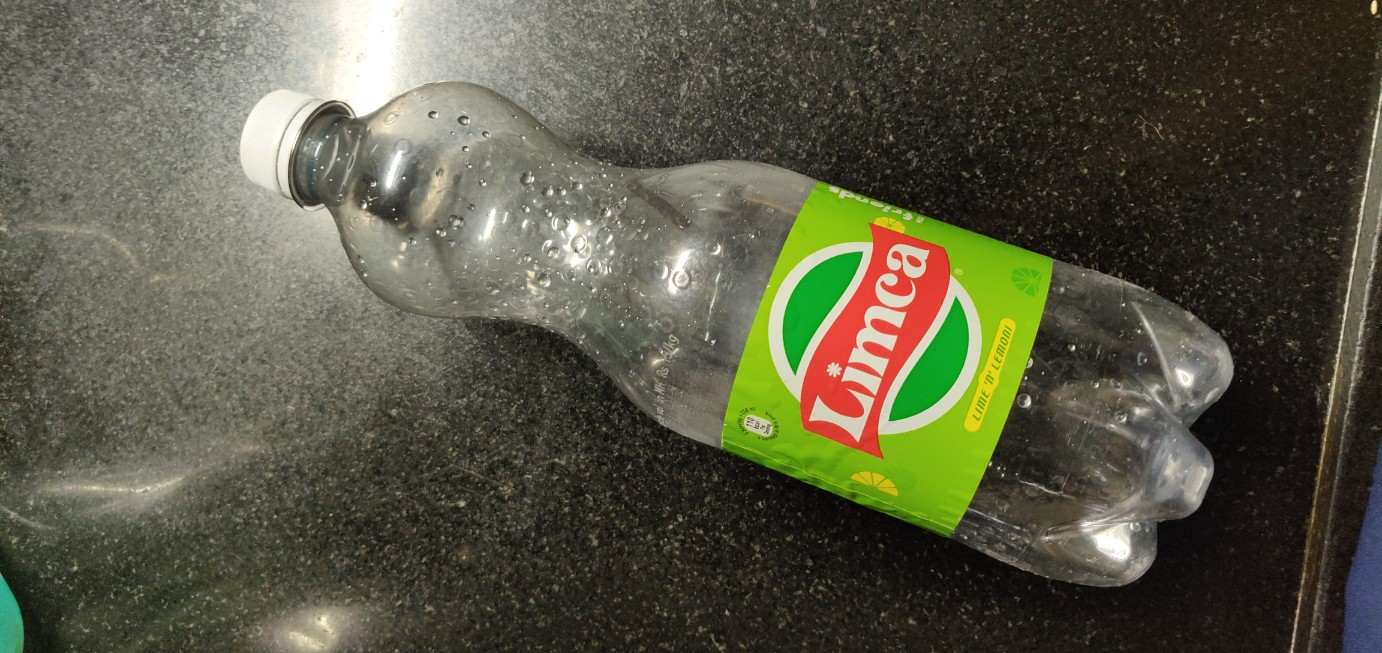Electronics: (222, 66, 1258, 610)
